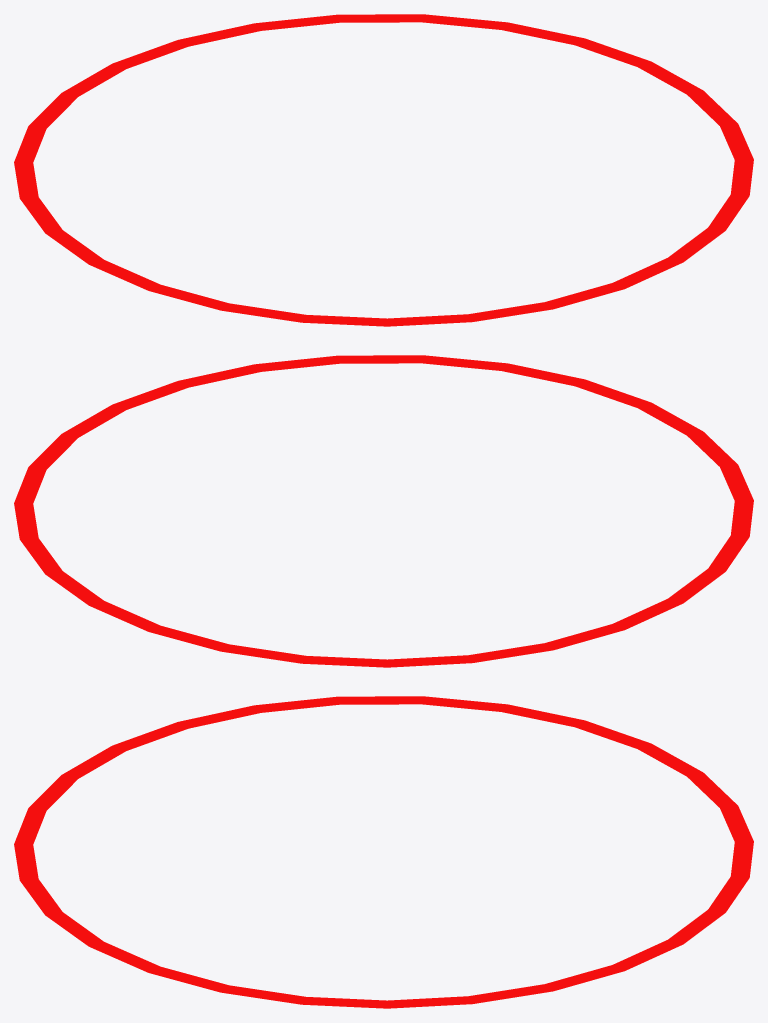
The model's file is Vshmccty-866Ring5.gltf.
3 views of the same model, one above another, from view 1: azimuth 30°, elevation 25°; view 2: azimuth 150°, elevation 25°; view 3: azimuth 270°, elevation 25° (orthographic).
Bounding box in the file's own units: 153 × 0 × 154.
